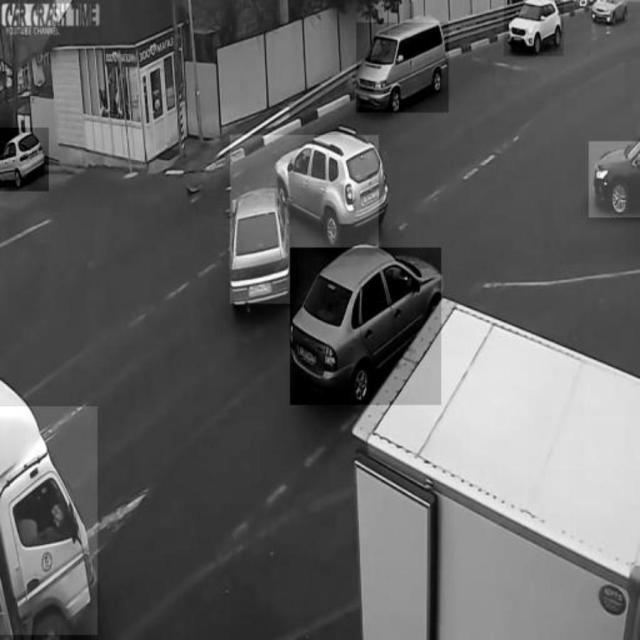accident: (230, 135, 378, 303)
vehicle: (290, 248, 441, 405), (0, 406, 98, 634), (356, 23, 448, 113), (589, 141, 640, 217), (504, 1, 564, 57), (0, 127, 48, 191)
